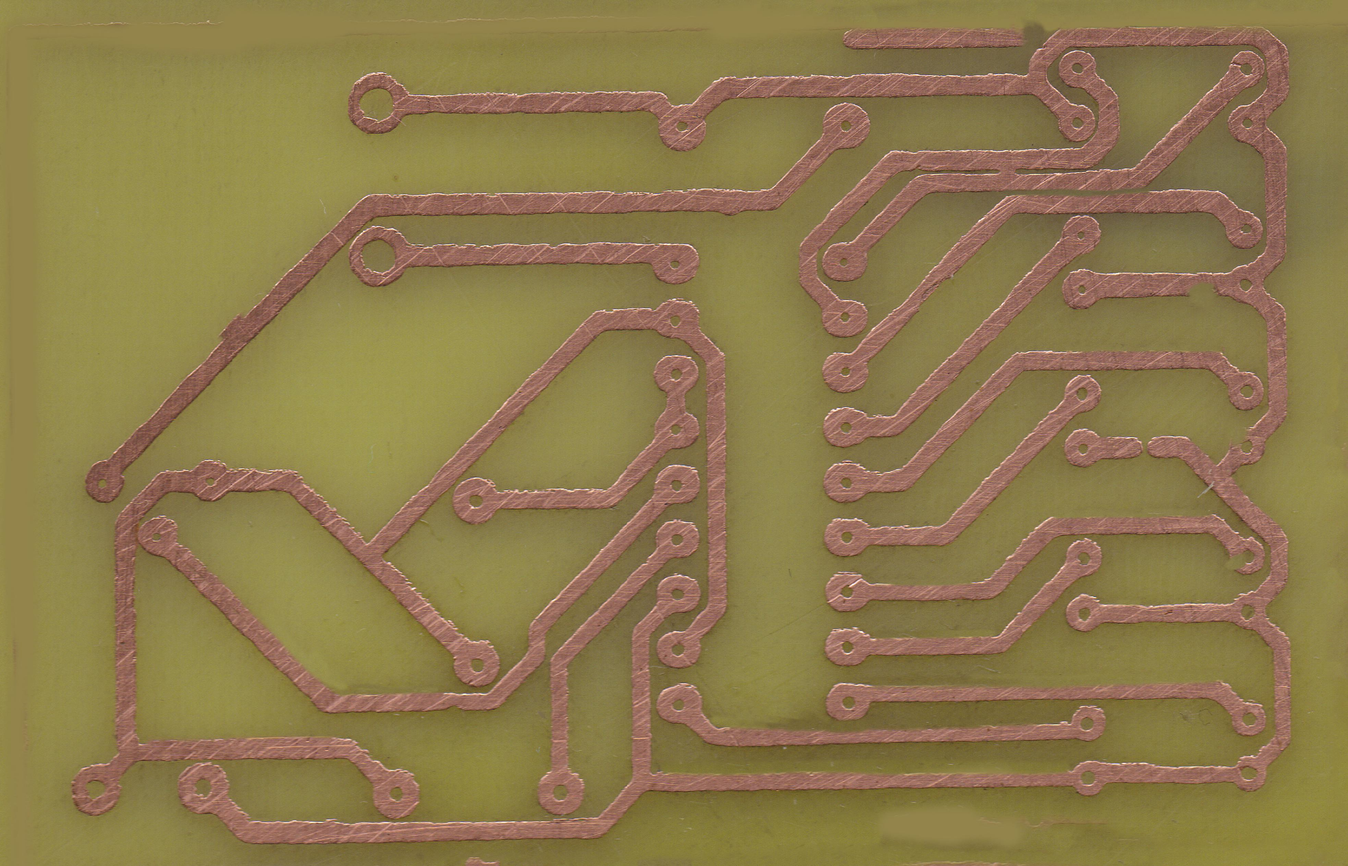missing_hole: (1224, 532, 1261, 576)
mouse_bite: (1180, 264, 1221, 303)
open_circuit: (1131, 434, 1155, 464)
short: (993, 147, 1018, 191), (116, 524, 149, 553)
spur: (215, 312, 256, 345)
spurious_copper: (841, 26, 1020, 48)
